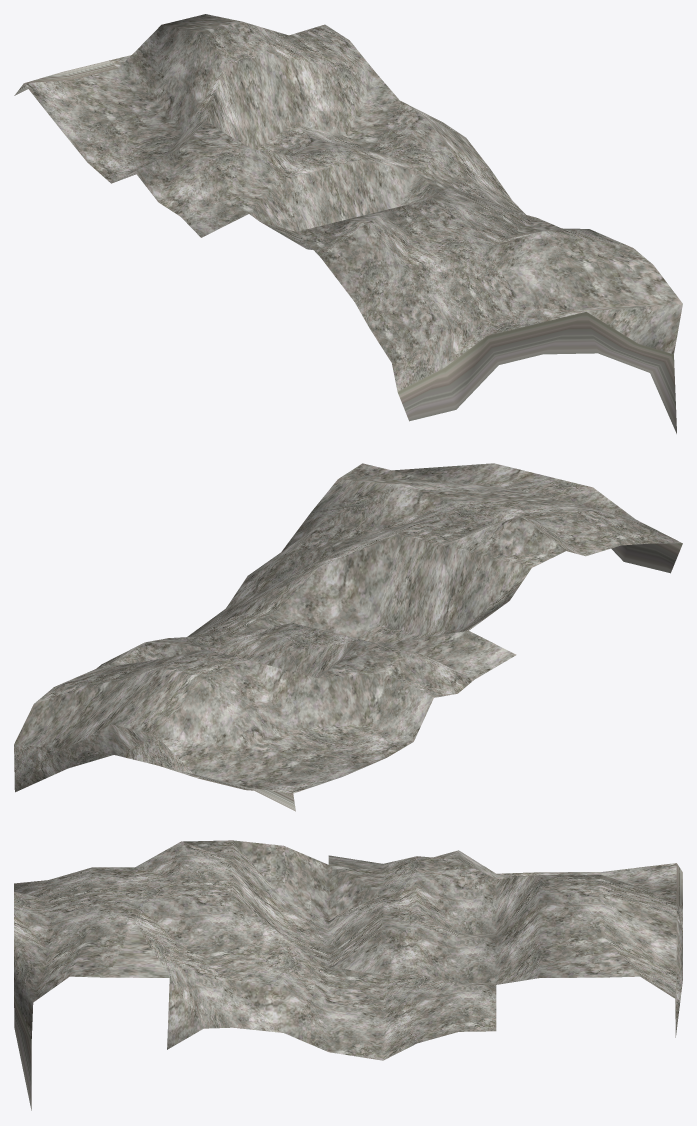
The model's file is DWARF_PALACE_WATER_ROOM_CAVEA.fbx.
The picture shows the model from 3 angles, top to bottom: view 1: azimuth 30°, elevation 25°; view 2: azimuth 150°, elevation 25°; view 3: azimuth 270°, elevation 25°; orthographic projection. The views are drawn at different scales.
Visible parts, largest first — view 1: DWARF_PALACE_WATER_ROOM_CAVEA; view 2: DWARF_PALACE_WATER_ROOM_CAVEA; view 3: DWARF_PALACE_WATER_ROOM_CAVEA.
Part boxes in pixels (box(x1,y1,x2,y2)): DWARF_PALACE_WATER_ROOM_CAVEA: box(14, 14, 682, 433); DWARF_PALACE_WATER_ROOM_CAVEA: box(14, 463, 682, 811); DWARF_PALACE_WATER_ROOM_CAVEA: box(14, 840, 682, 1110).
Bounding box in the file's own units: 235132 × 132846 × 457695.
1 material, 1 textured.
